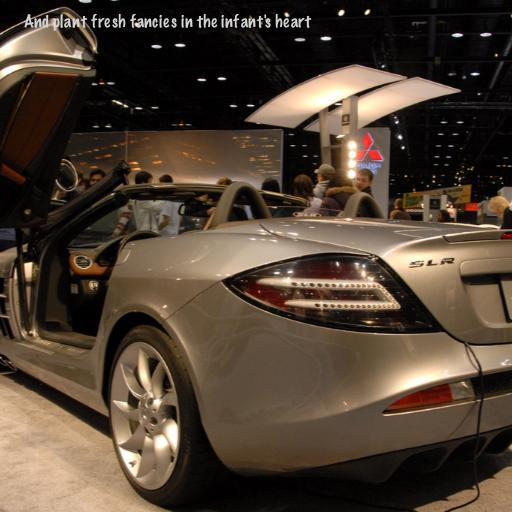Marker Felt: (23, 13, 311, 31)
